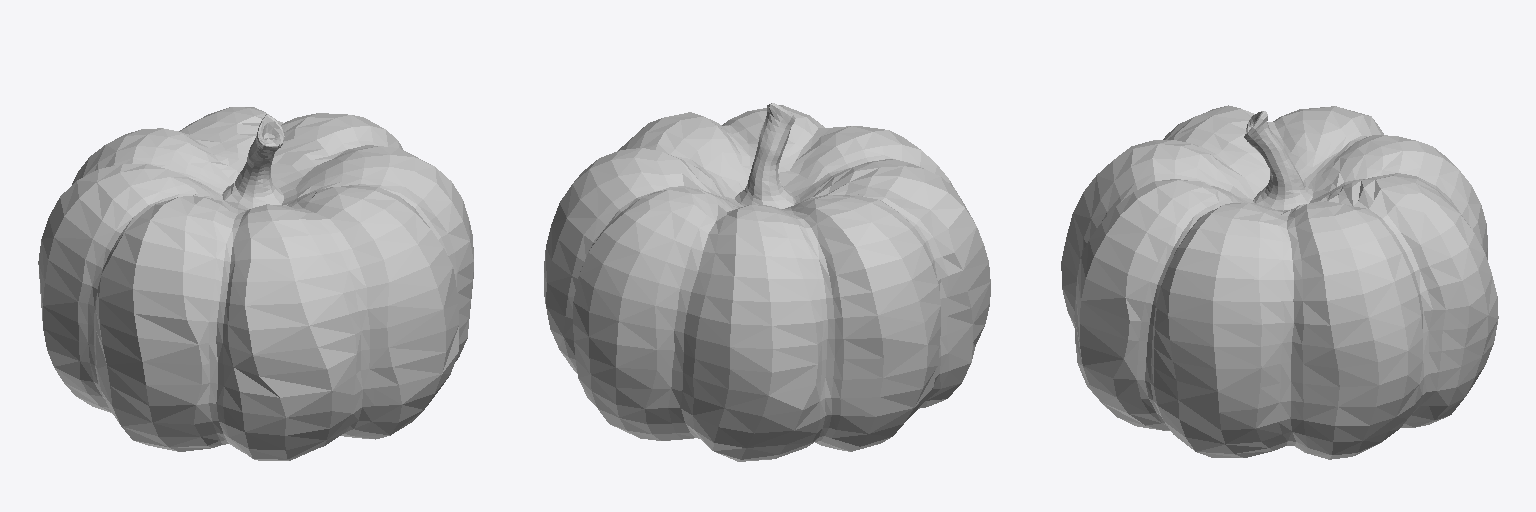
Rendered from pumpkin.obj.
3 renders of one model, left to right at view 1: azimuth 30°, elevation 25°; view 2: azimuth 150°, elevation 25°; view 3: azimuth 270°, elevation 25°, orthographic.
Parts seen in each view (by area): view 1: 1_low, 2_low; view 2: 1_low, 2_low; view 3: 1_low, 2_low.
Part boxes in pixels (x1,y1,x2,y2): 1_low: (38,107,473,460); 2_low: (222,114,284,209); 1_low: (544,105,990,461); 2_low: (735,103,795,208); 1_low: (1061,105,1498,459); 2_low: (1244,111,1312,210).
Size of the model in its own units: 1.37 by 1.03 by 1.39.